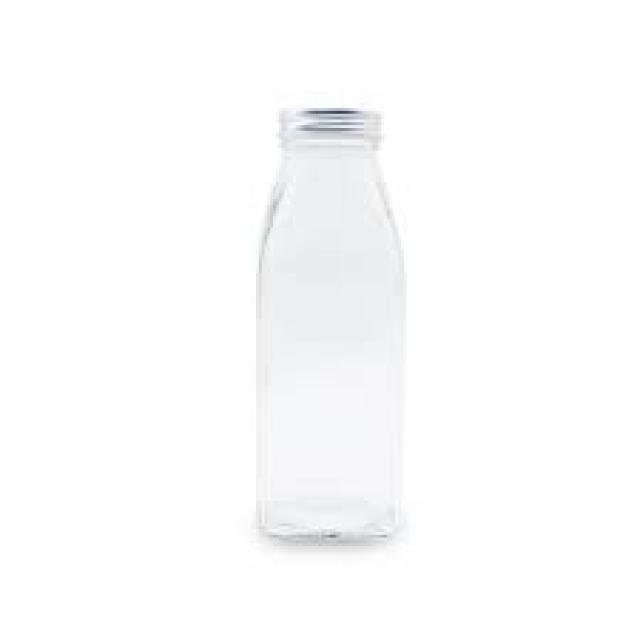glass: (250, 108, 401, 538)
